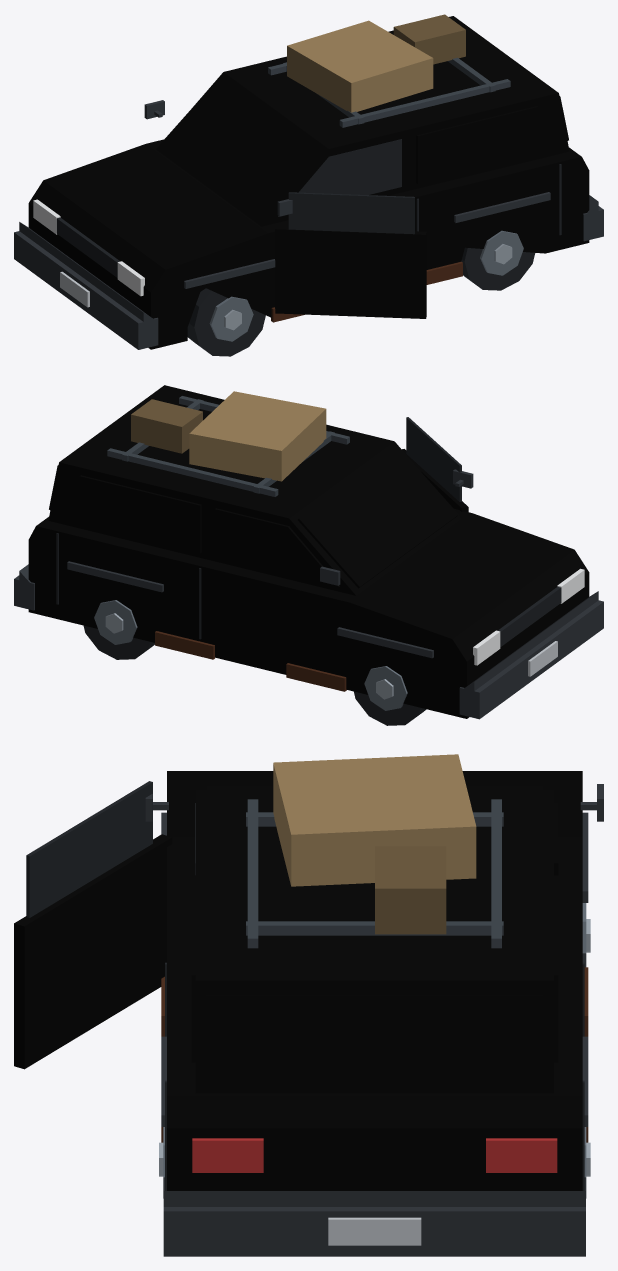
The model's file is prop_car_hatch.fbx.
3 views of the same model, one above another, from view 1: azimuth 30°, elevation 25°; view 2: azimuth 150°, elevation 25°; view 3: azimuth 270°, elevation 25° (orthographic). The views are drawn at different scales.
Parts seen in each view (by area): view 1: prop_car_hatch; view 2: prop_car_hatch; view 3: prop_car_hatch.
Boxes of the visible parts, <box> form: prop_car_hatch: <box>14,14,603,356</box>; prop_car_hatch: <box>14,385,603,725</box>; prop_car_hatch: <box>14,754,603,1256</box>.
Bounding box in the file's own units: 1288 × 560 × 824.
